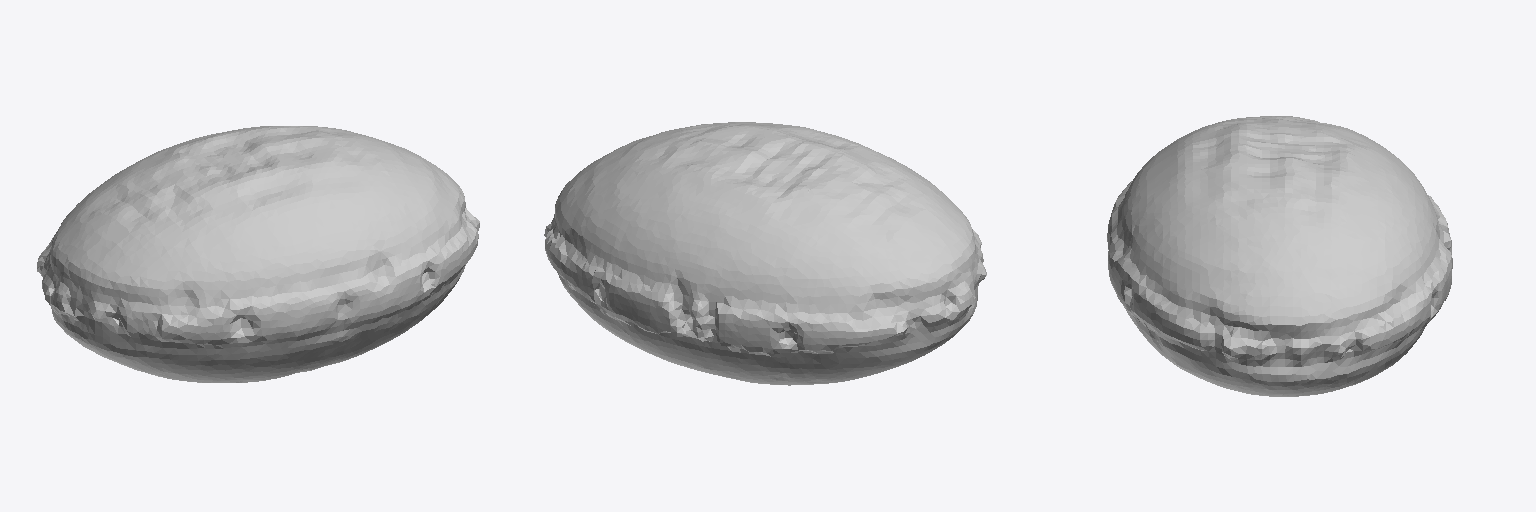
The model's file is egg-reduced.obj.
The picture shows the model from 3 angles: view 1: azimuth 30°, elevation 25°; view 2: azimuth 150°, elevation 25°; view 3: azimuth 270°, elevation 25°; orthographic projection.
Visible parts, largest first — view 1: mmGroup0; view 2: mmGroup0; view 3: mmGroup0.
Boxes of the visible parts, box(x1,y1,x2,y2) form: mmGroup0: box(37, 126, 479, 382); mmGroup0: box(544, 122, 986, 385); mmGroup0: box(1107, 116, 1452, 396).
Bounding box in the file's own units: 0.066 × 0.0326 × 0.0492.